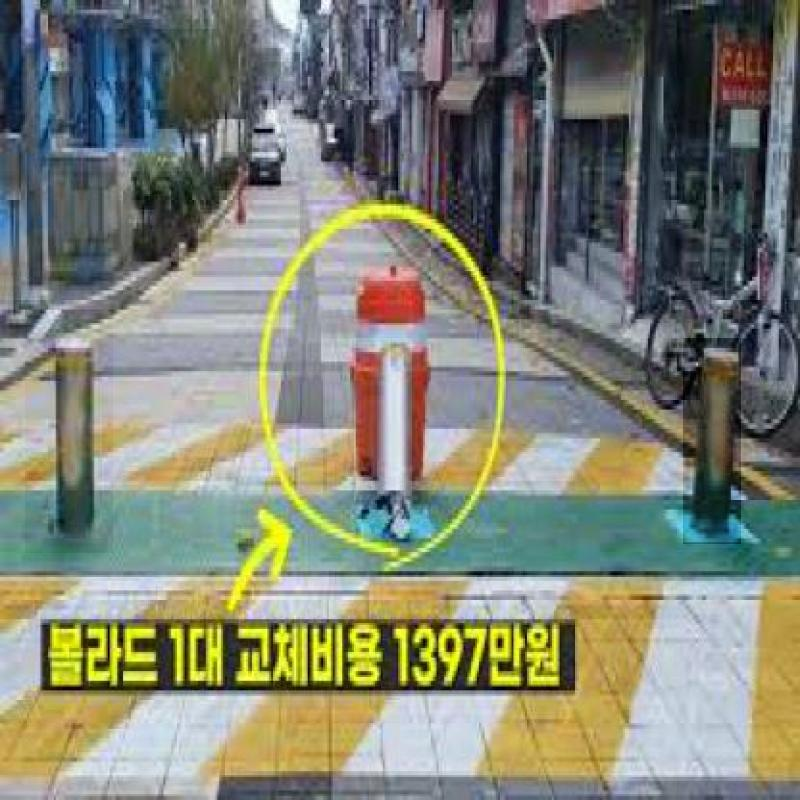bolard: (25, 309, 113, 553), (683, 338, 741, 544), (354, 338, 412, 500)
